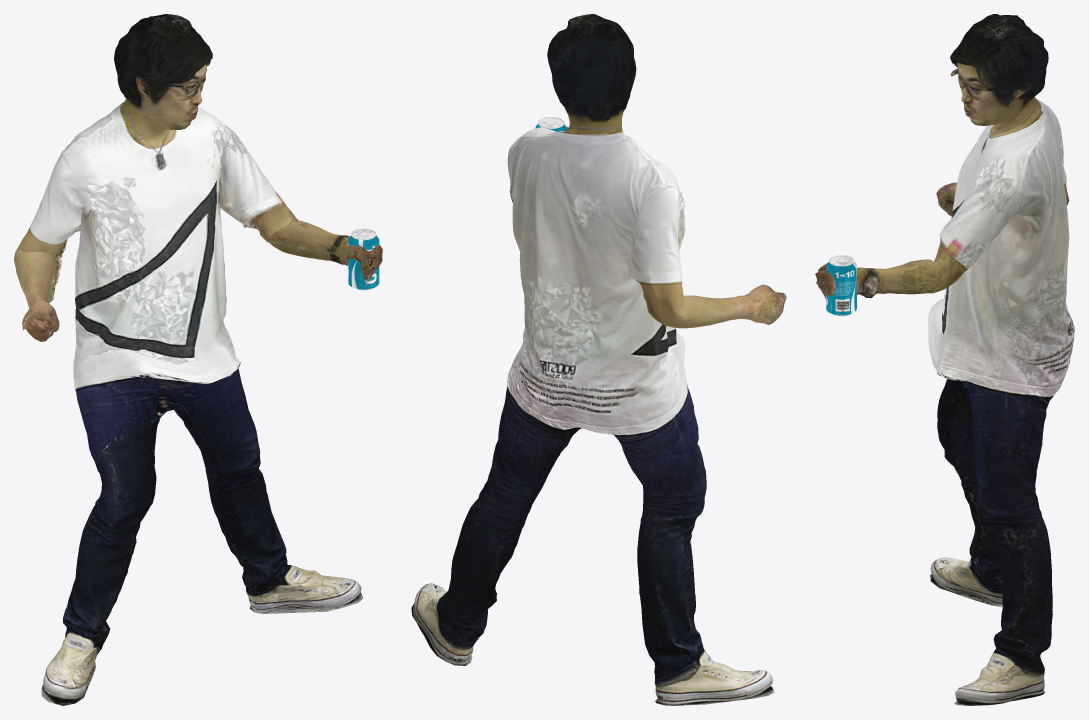
The model's file is sample.glb.
3 renders of one model, left to right at view 1: azimuth 30°, elevation 25°; view 2: azimuth 150°, elevation 25°; view 3: azimuth 270°, elevation 25°, orthographic. The views are drawn at different scales.
Parts seen in each view (by area): view 1: mesh, kan; view 2: mesh; view 3: mesh, kan.
Part boxes in pixels (x1,y1,x2,y2): mesh: (14, 14, 382, 705); kan: (348, 228, 379, 290); mesh: (411, 14, 786, 705); mesh: (815, 14, 1074, 705); kan: (826, 255, 856, 316).
Size of the model in its own units: 1.03 by 1.81 by 0.6848.
Materials: 2 (2 with a texture image).
